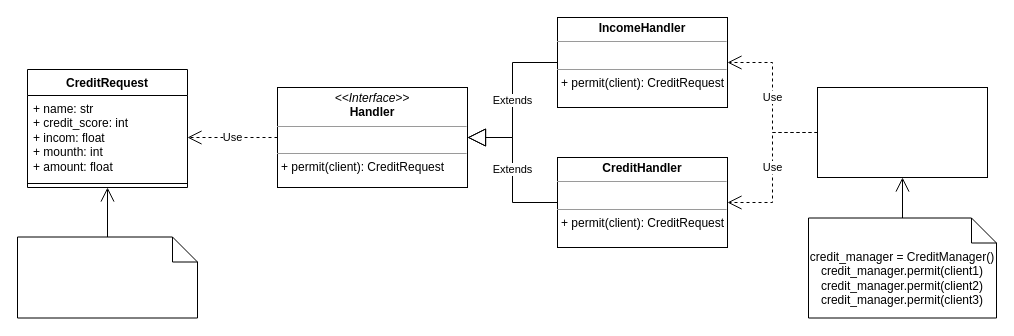
Some shapes in this 1014 by 336 pixel diagram are drawn without their labels. Each missing label, with the centre of its shape:
client1 = CreditRequest() client2 = CreditRequest() client3 = CreditRequest(): [107,277]
CreditManager + handlers: list + permit(client): CreditRequest: [902,132]
